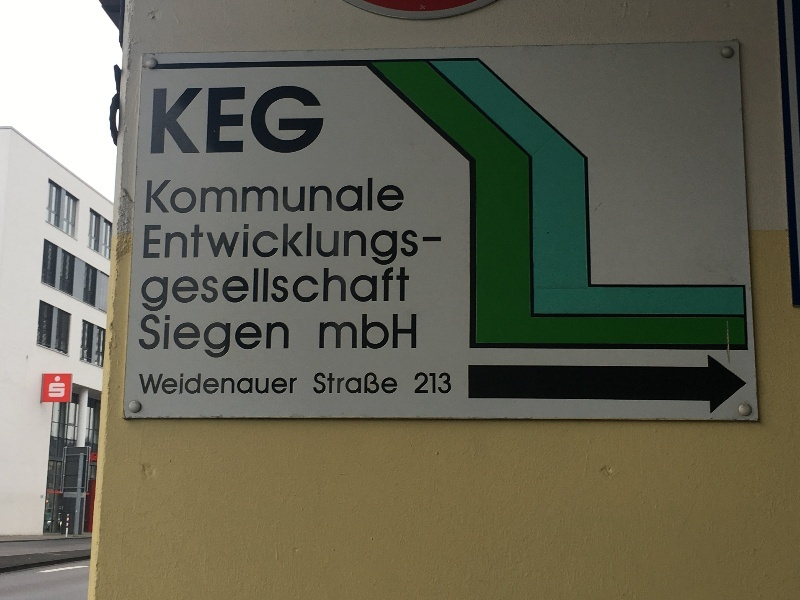text: (161, 85, 176, 154), (177, 85, 192, 154), (193, 85, 208, 154), (209, 85, 224, 154), (225, 85, 240, 154), (241, 85, 256, 154), (257, 85, 272, 154), (273, 85, 288, 154), (289, 85, 304, 154), (305, 85, 320, 154), (145, 264, 160, 313), (161, 264, 176, 313), (177, 264, 192, 313), (193, 264, 208, 313), (209, 264, 224, 313), (225, 264, 240, 313), (241, 264, 256, 313), (257, 264, 272, 313), (273, 264, 288, 313), (289, 264, 304, 313), (305, 264, 320, 313), (321, 264, 336, 313), (337, 264, 352, 313), (353, 264, 368, 313), (369, 264, 384, 313), (385, 264, 400, 313), (145, 313, 160, 360), (161, 313, 176, 360), (177, 313, 192, 360), (193, 313, 208, 360), (209, 313, 224, 360), (225, 313, 240, 360), (241, 313, 256, 360), (257, 313, 272, 360), (273, 313, 288, 360), (145, 222, 160, 268), (161, 222, 176, 268), (177, 222, 192, 268), (193, 222, 208, 268), (209, 222, 224, 268), (225, 222, 240, 268), (241, 222, 256, 268), (257, 222, 272, 268), (273, 222, 288, 268), (289, 222, 304, 268), (305, 222, 320, 268), (321, 222, 336, 268), (337, 222, 352, 268), (353, 222, 368, 268), (369, 222, 384, 268), (385, 222, 400, 268), (401, 222, 416, 268), (417, 222, 432, 268), (321, 312, 336, 351), (337, 312, 352, 351), (353, 312, 368, 351), (369, 312, 384, 351), (385, 312, 400, 351), (401, 312, 416, 351), (161, 177, 176, 215), (177, 177, 192, 215), (193, 177, 208, 215), (209, 177, 224, 215), (225, 177, 240, 215), (241, 177, 256, 215), (257, 177, 272, 215), (273, 177, 288, 215), (289, 177, 304, 215), (305, 177, 320, 215), (321, 177, 336, 215), (337, 177, 352, 215), (353, 177, 368, 215), (369, 177, 384, 215), (385, 177, 400, 215), (147, 177, 160, 215), (401, 264, 411, 313), (433, 222, 443, 268), (154, 85, 160, 154), (321, 372, 336, 395), (337, 372, 352, 395), (353, 372, 368, 395), (369, 372, 384, 395), (417, 372, 432, 395), (433, 372, 448, 395), (145, 374, 160, 395), (161, 374, 176, 395), (177, 374, 192, 395), (193, 374, 208, 395), (209, 374, 224, 395), (225, 374, 240, 395), (241, 374, 256, 395), (257, 374, 272, 395), (273, 374, 288, 395), (385, 372, 398, 395), (50, 377, 64, 398), (289, 374, 299, 395), (321, 85, 324, 154), (313, 372, 320, 395), (401, 177, 405, 215), (141, 313, 144, 360), (138, 374, 144, 395), (142, 264, 144, 313), (289, 313, 290, 360), (414, 372, 416, 395), (449, 372, 451, 395), (417, 312, 418, 351), (65, 377, 66, 398)
